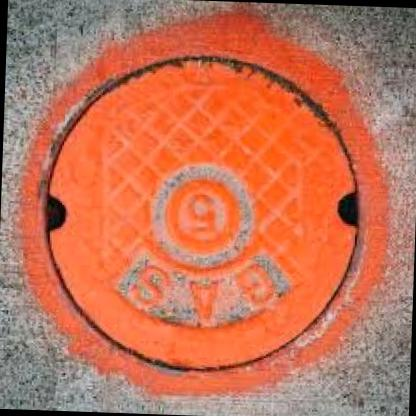manholes: (15, 23, 376, 407)
